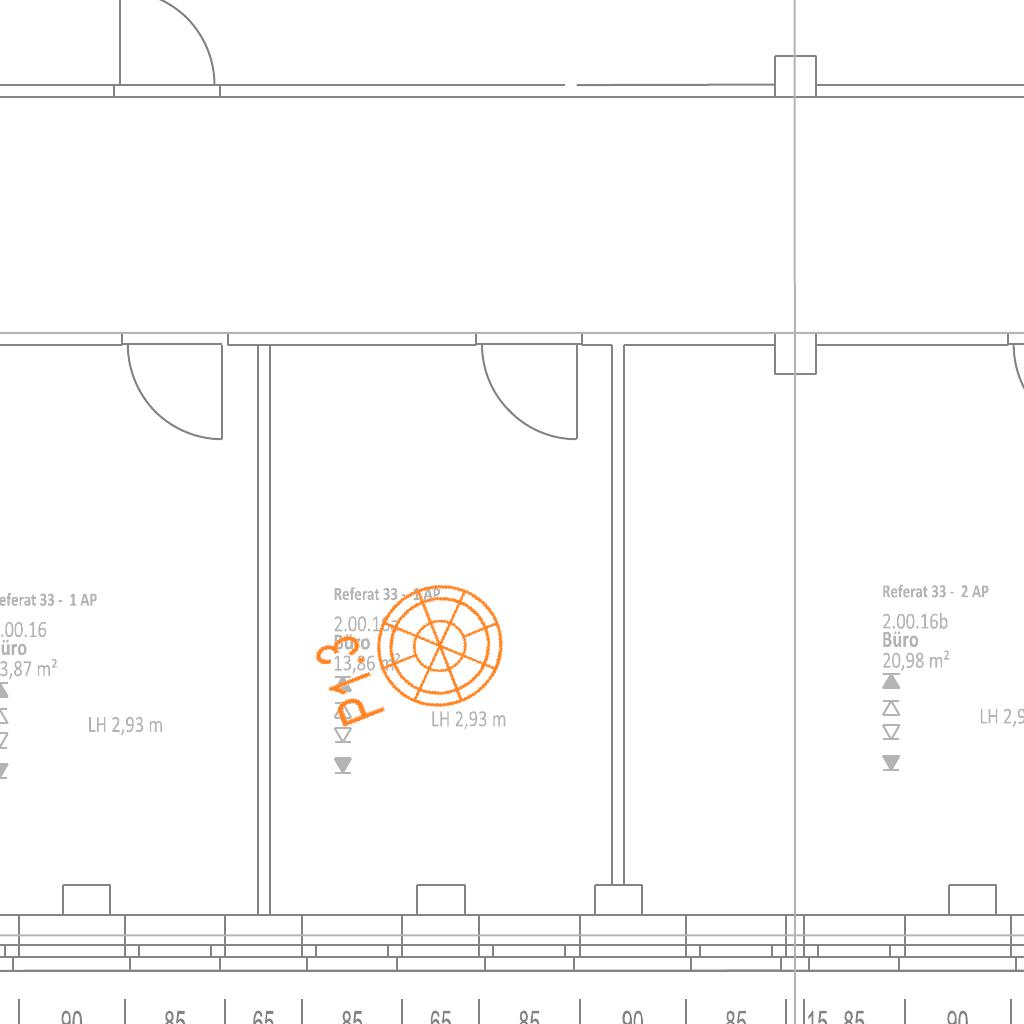Aufbaurundleuchte_LED_Treppenhaus: (283, 551, 526, 756)
